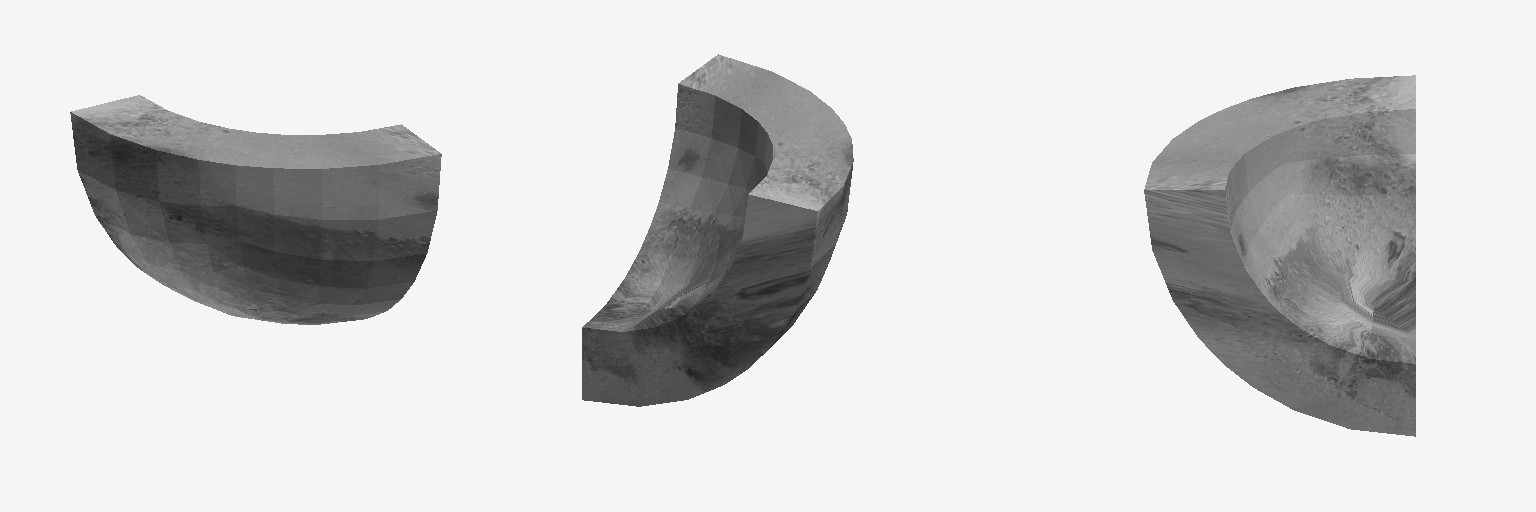
3 views of the same model, side by side, from view 1: azimuth 30°, elevation 25°; view 2: azimuth 150°, elevation 25°; view 3: azimuth 270°, elevation 25° (orthographic).
Visible parts, largest first — view 1: Cube.015_Cube.030; view 2: Cube.015_Cube.030; view 3: Cube.015_Cube.030.
Part boxes in pixels (x1,y1,x2,y2): Cube.015_Cube.030: (70, 95, 441, 324); Cube.015_Cube.030: (582, 54, 853, 406); Cube.015_Cube.030: (1144, 75, 1415, 436).
Bounding box in the file's own units: 1.24 × 1.24 × 1.24.
1 materials, 1 textured.